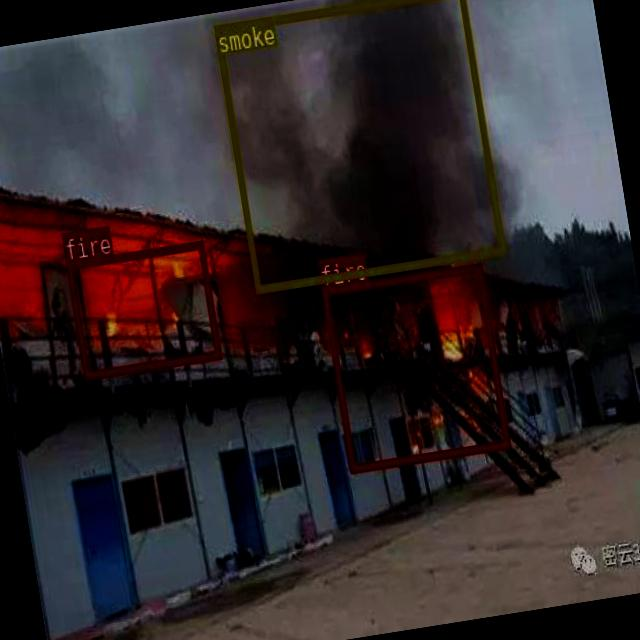fire: (320, 263, 510, 472), (65, 240, 220, 380)
smoke: (213, 0, 504, 291)
